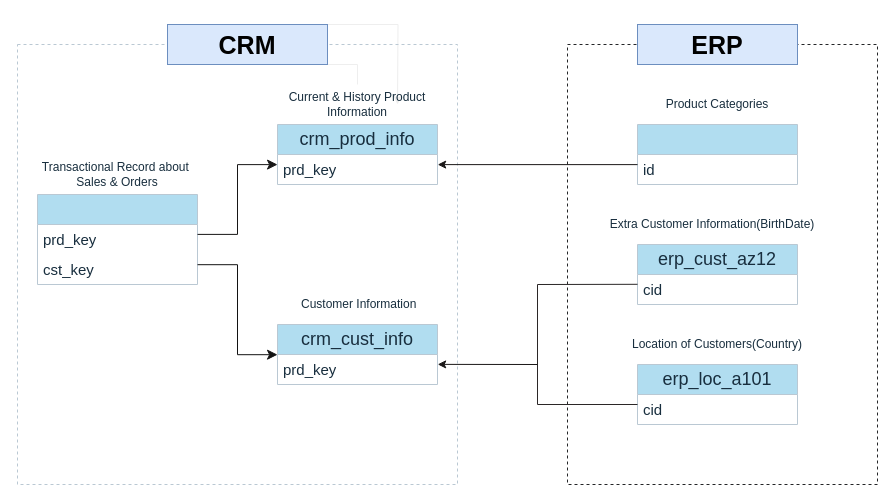
The diagram is 895 pixels wide and 502 high, and some of its shapes have lost their labels. The box of each missing label's shape, as (x1, y1, x2, y2) in pixels:
crm_sales_details: (36, 194, 198, 284)
erp_px_cat_g1v2: (636, 124, 798, 184)
